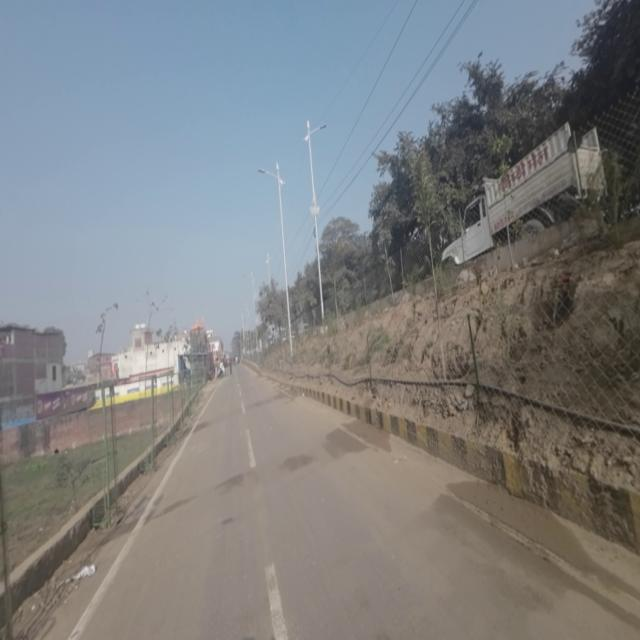Garbage: (72, 562, 99, 583)
